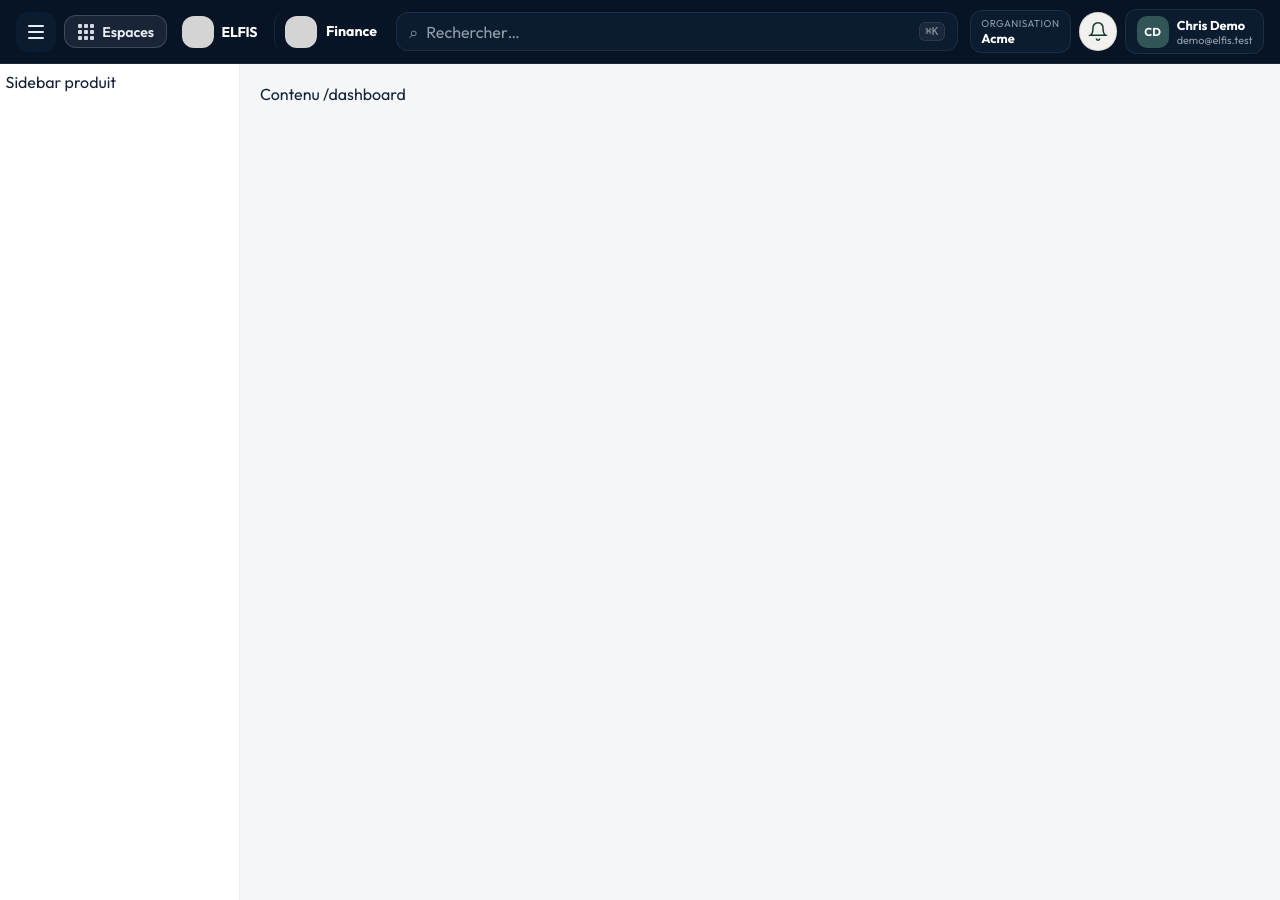
Test: UI.P2 redundant menu button MB01–MB20 › MB02 — bouton global fonctionnel (ouvre le drawer)
The image size is (1280, 900).
Click the button named "ouvrir le menu elfis" at (36, 32), box [16,12,56,52]
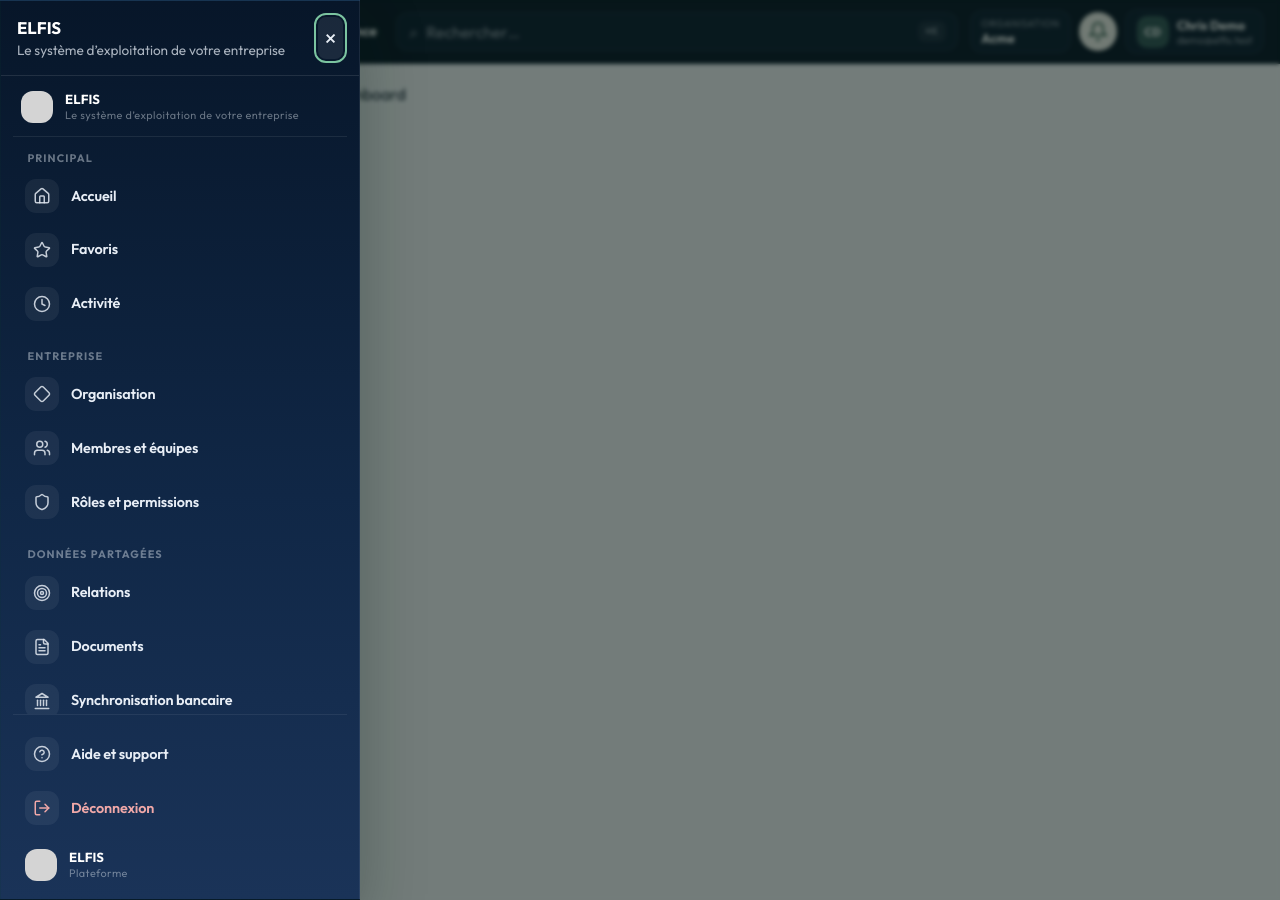
Now the dialog "ELFIS" is shown, box [0,0,360,899]
